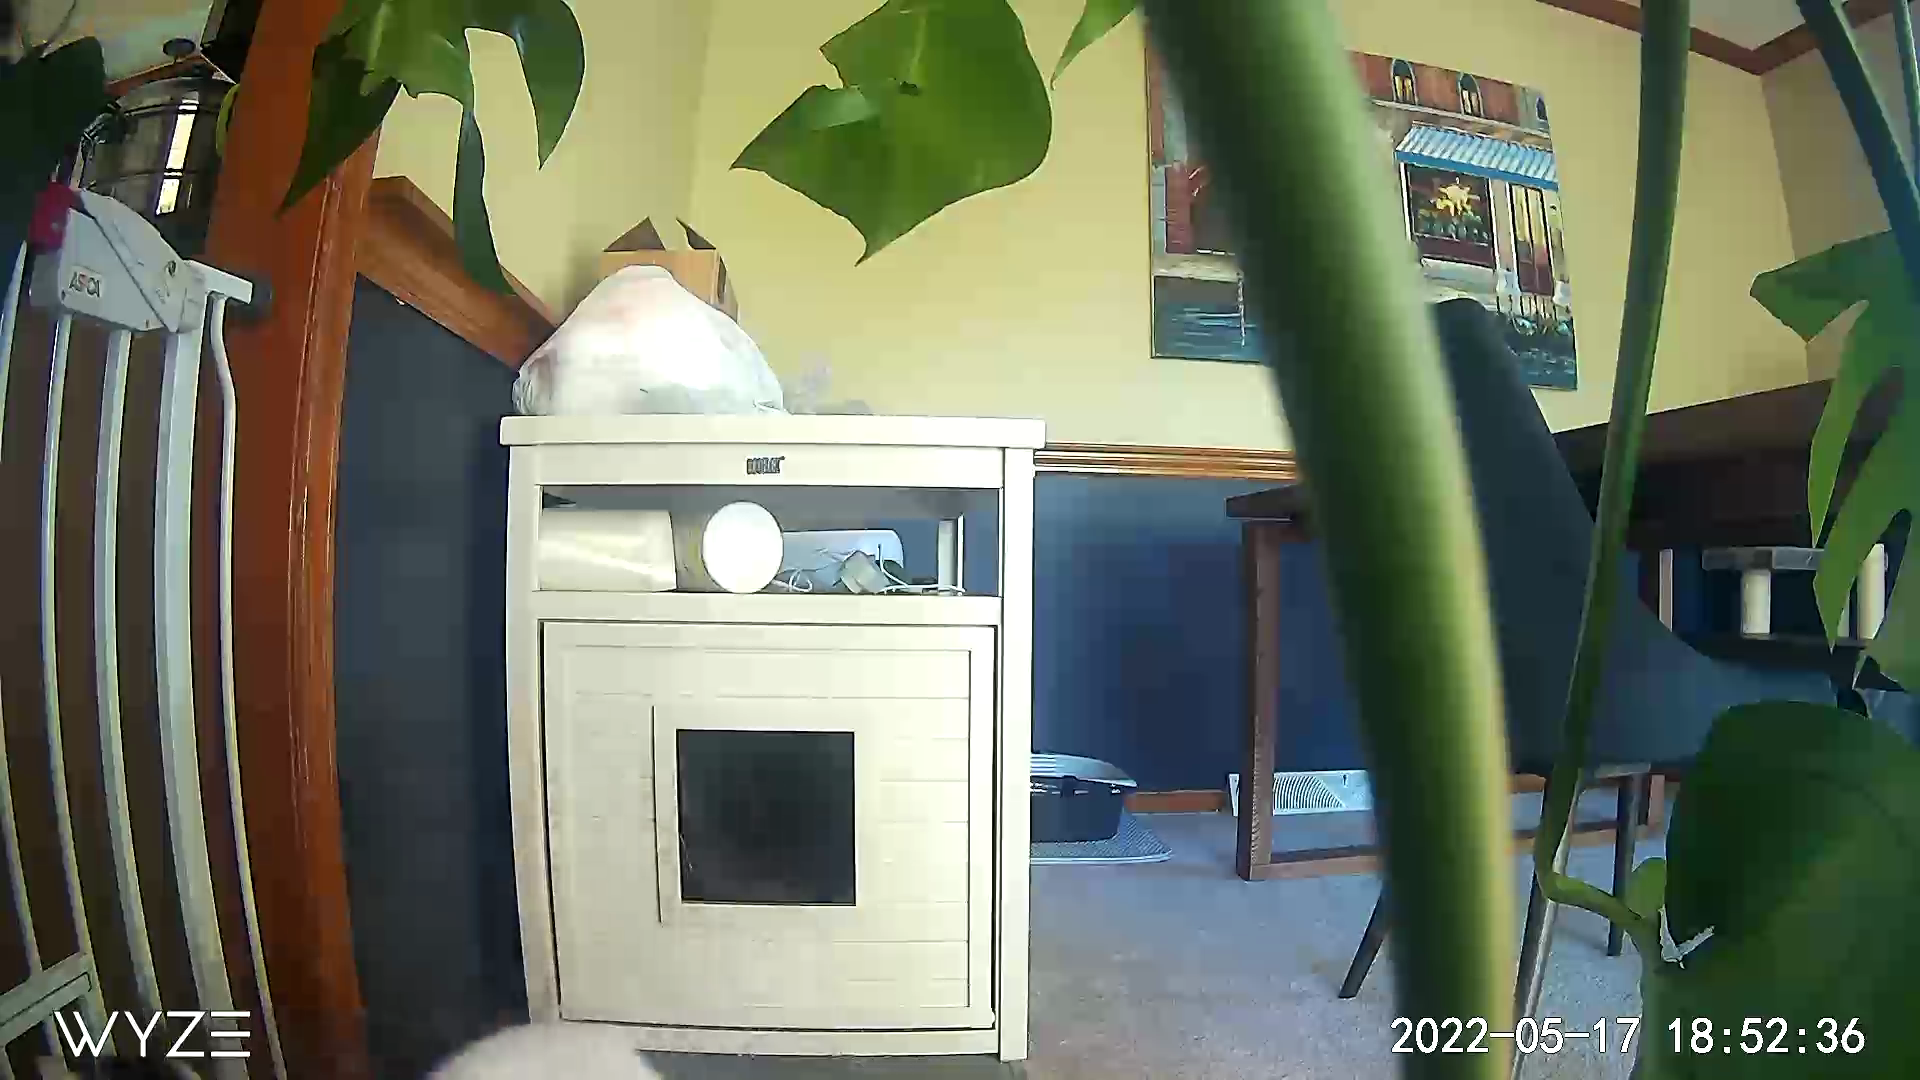maoxin: (414, 1015, 651, 1080)
